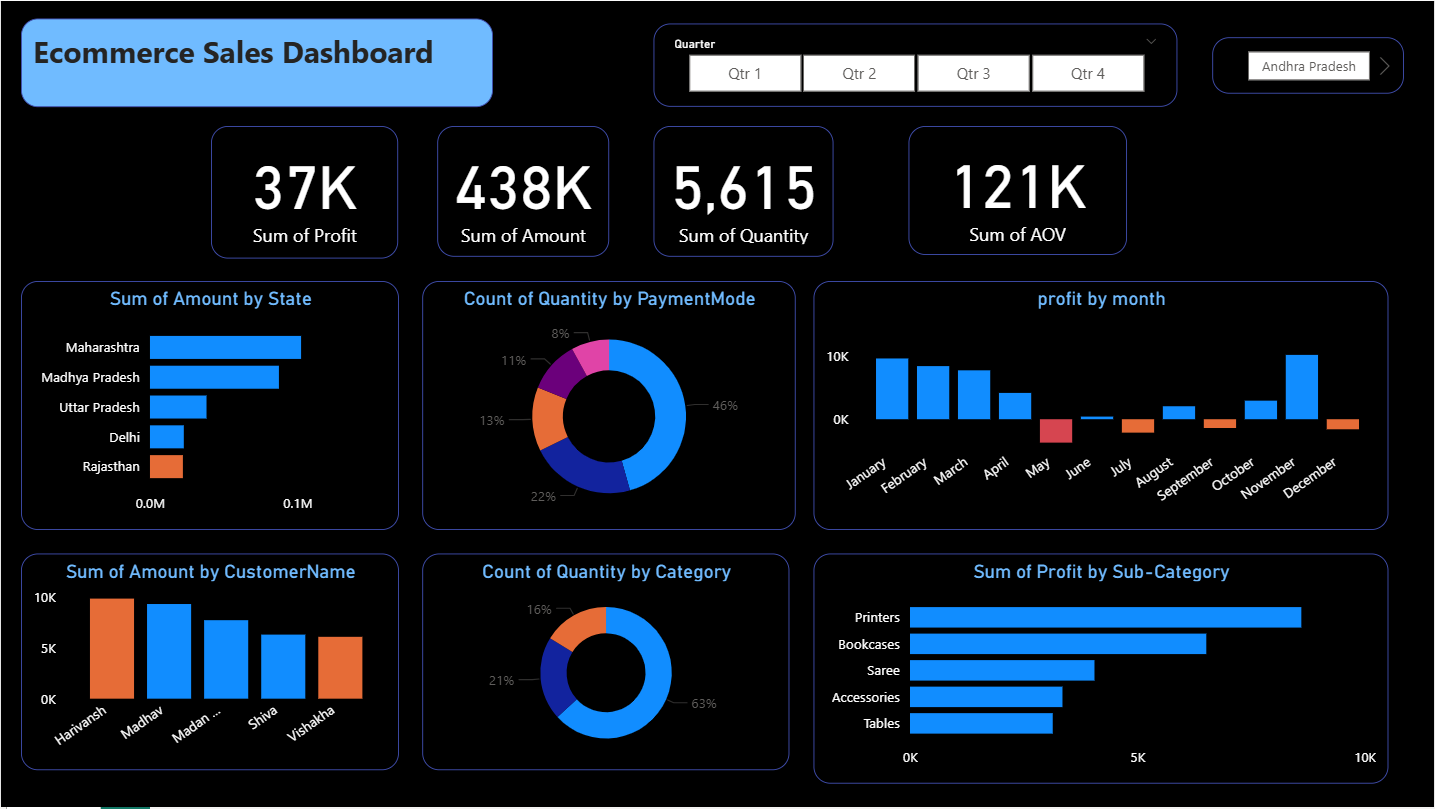

What the dashboard file says about the page in this screenshot:
{"tool":"powerbi","page":{"name":"Page 1","canvas":[1280,720],"ordinal":0},"visuals":[{"type":"textbox","box":[17.8,15.1,421.3,79.6],"z":0},{"type":"columnChart","title":"profit by month","fields":{"Y":["Details.Profit"],"Category":["Orders.Order Date.Variation.Date Hierarchy.Month"]},"box":[725.9,249.7,513.2,222.3],"z":1000},{"type":"barChart","fields":{"Category":["Details.Sub-Category"],"Y":["Details.Profit"]},"box":[725.9,494,513.2,205.8],"z":2000},{"type":"donutChart","fields":{"Category":["Details.Category"],"Y":["Details.Quantity"]},"box":[376,494,328,193.5],"z":3000},{"type":"donutChart","fields":{"Y":["Details.Quantity"],"Category":["Details.PaymentMode"]},"box":[376,249.7,333.4,222.3],"z":4000},{"type":"card","fields":{"Values":["Details.Amount"]},"box":[389.7,111.1,153.7,116.6],"z":5000},{"type":"card","fields":{"Values":["Details.Quantity"]},"box":[583.2,111.1,160.5,116.6],"z":6000},{"type":"card","fields":{"Values":["Details.Profit"]},"box":[188,111.1,167.4,118],"z":7000},{"type":"card","fields":{"Values":["Details.AOV"]},"box":[811,111.1,194.9,115.3],"z":8000},{"type":"barChart","fields":{"Category":["Orders.State"],"Y":["Details.Amount"]},"box":[17.8,249.7,337.6,222.3],"z":9000},{"type":"columnChart","fields":{"Category":["Orders.CustomerName"],"Y":["Details.Amount"]},"box":[17.8,494,337.6,193.5],"z":10000},{"type":"slicer","fields":{"Values":["Orders.Order Date.Variation.Date Hierarchy.Quarter"]},"box":[583.2,20.6,467.9,74.1],"z":11000},{"type":"slicer","fields":{"Values":["Orders.State"]},"box":[1082.6,32.6,170.9,50],"z":12000}]}

Visuals, with their boxes in screenshot pixels (x1, y1, x2, y2), scaled from the page's 1280x720 canvas onto the 1435x809 screenshot:
textbox: [x1=20, y1=17, x2=492, y2=106]
"profit by month" columnChart: [x1=814, y1=281, x2=1389, y2=530]
barChart - Details.Sub-Category x Details.Profit: [x1=814, y1=555, x2=1389, y2=786]
donutChart - Details.Category x Details.Quantity: [x1=422, y1=555, x2=789, y2=772]
donutChart - Details.Quantity x Details.PaymentMode: [x1=422, y1=281, x2=795, y2=530]
card - Details.Amount: [x1=437, y1=125, x2=609, y2=256]
card - Details.Quantity: [x1=654, y1=125, x2=834, y2=256]
card - Details.Profit: [x1=211, y1=125, x2=398, y2=257]
card - Details.AOV: [x1=909, y1=125, x2=1128, y2=254]
barChart - Orders.State x Details.Amount: [x1=20, y1=281, x2=398, y2=530]
columnChart - Orders.CustomerName x Details.Amount: [x1=20, y1=555, x2=398, y2=772]
slicer - Orders.Order Date.Variation.Date Hierarchy.Quarter: [x1=654, y1=23, x2=1178, y2=106]
slicer - Orders.State: [x1=1214, y1=37, x2=1405, y2=93]
